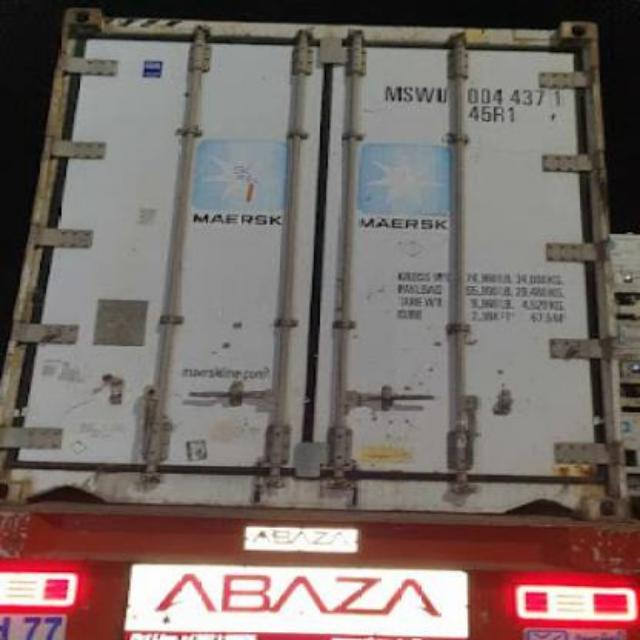0: (480, 75, 492, 107), (466, 79, 478, 105)
1: (550, 83, 562, 115)
3: (522, 82, 532, 110)
4: (492, 82, 506, 106), (508, 85, 522, 106)
7: (532, 78, 548, 114)
M: (381, 80, 402, 104)
S: (402, 82, 414, 108)
U: (436, 80, 449, 112)
W: (414, 81, 434, 111)
